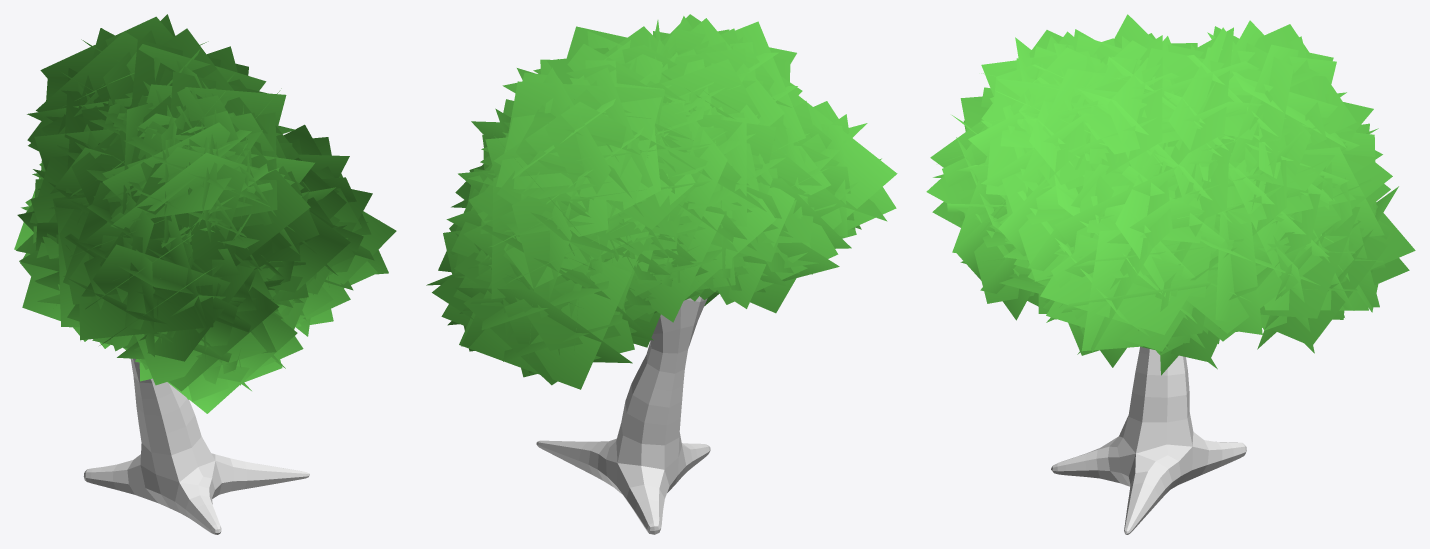
The picture shows the model from 3 angles, left to right: view 1: azimuth 30°, elevation 25°; view 2: azimuth 150°, elevation 25°; view 3: azimuth 270°, elevation 25°; orthographic projection. The views are drawn at different scales.
Visible parts, largest first — view 1: 平面.002; view 2: 平面.002; view 3: 平面.002.
Boxes of the visible parts, x1=… form: 平面.002: x1=14, y1=14, x2=396, y2=534; 平面.002: x1=426, y1=14, x2=897, y2=534; 平面.002: x1=926, y1=14, x2=1415, y2=534.
Size of the model in its own units: 1849 by 2198 by 2118.
